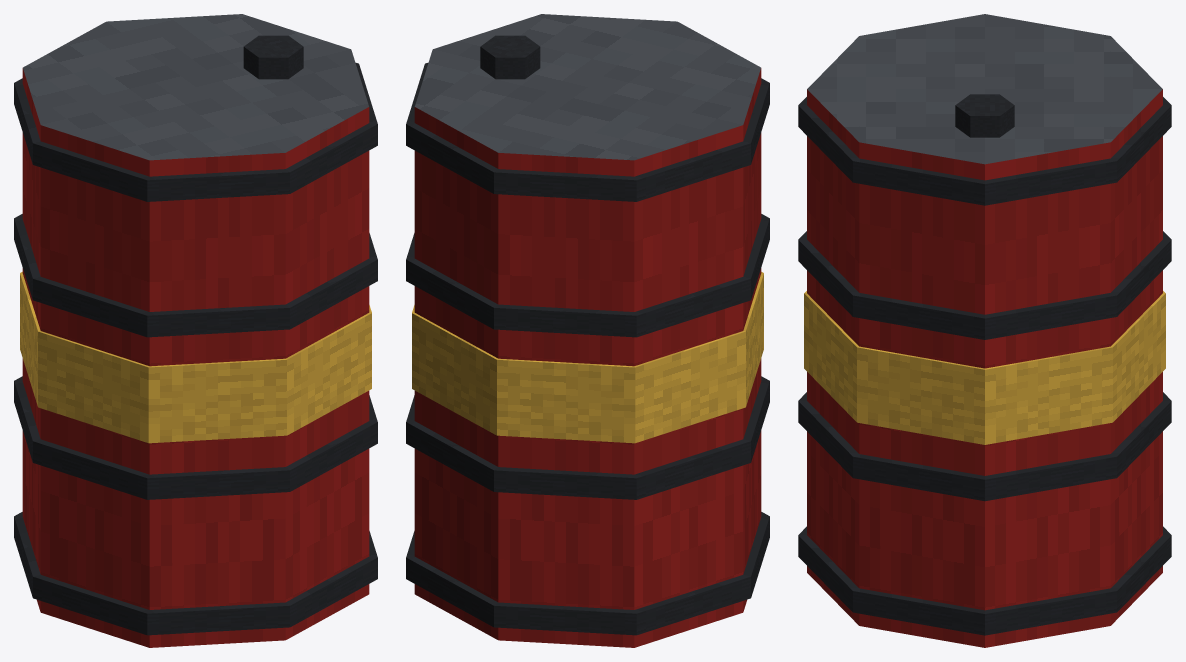
The model's file is barrel_explosive.glb.
3 renders of one model, left to right at view 1: azimuth 30°, elevation 25°; view 2: azimuth 150°, elevation 25°; view 3: azimuth 270°, elevation 25°, orthographic.
Visible parts, largest first — view 1: barrel_explosive; view 2: barrel_explosive; view 3: barrel_explosive.
Part boxes in pixels (x1,y1,x2,y2): barrel_explosive: [14, 14, 377, 647]; barrel_explosive: [406, 14, 769, 647]; barrel_explosive: [798, 14, 1171, 647].
Bounding box in the file's own units: 0.63 × 0.94 × 0.63.
1 material, 1 textured.
